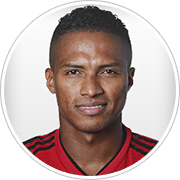face: (41, 38, 138, 121)
